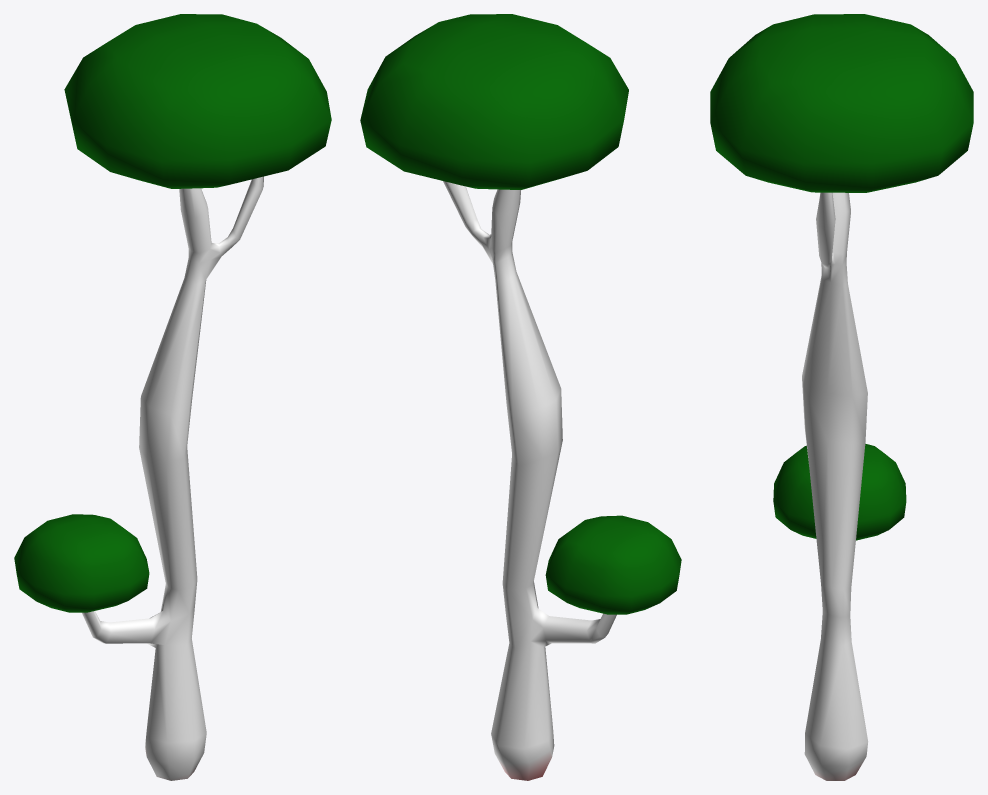
Rendered from SM_Tree_P_14.fbx.
3 views of the same model, side by side, from view 1: azimuth 30°, elevation 25°; view 2: azimuth 150°, elevation 25°; view 3: azimuth 270°, elevation 25° (orthographic). The views are drawn at different scales.
Visible parts, largest first — view 1: SM_Tree_P_14; view 2: SM_Tree_P_14; view 3: SM_Tree_P_14.
Part boxes in pixels (box(x1,y1,x2,y2)): SM_Tree_P_14: box(14, 14, 331, 780); SM_Tree_P_14: box(360, 14, 681, 780); SM_Tree_P_14: box(710, 14, 973, 780).
Bounding box in the file's own units: 274 × 664 × 213.
